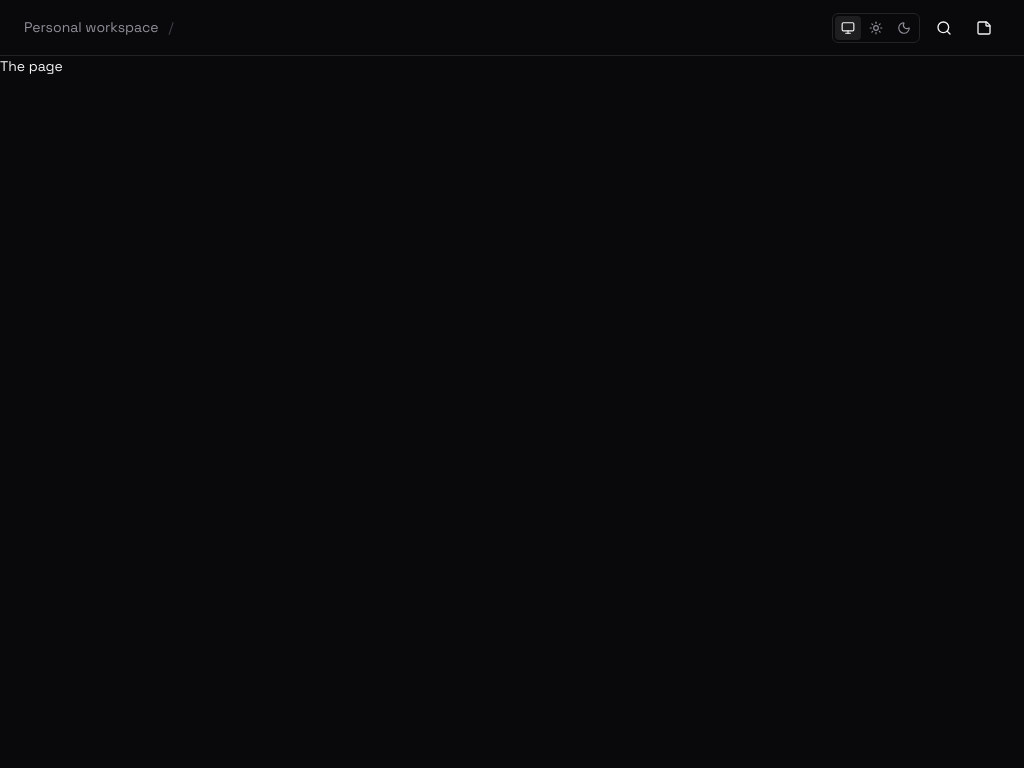
a page outside a project says so
Step 1. Click the button named "Scratch pad" → coordinates (984, 28), box [968,12,1000,44]
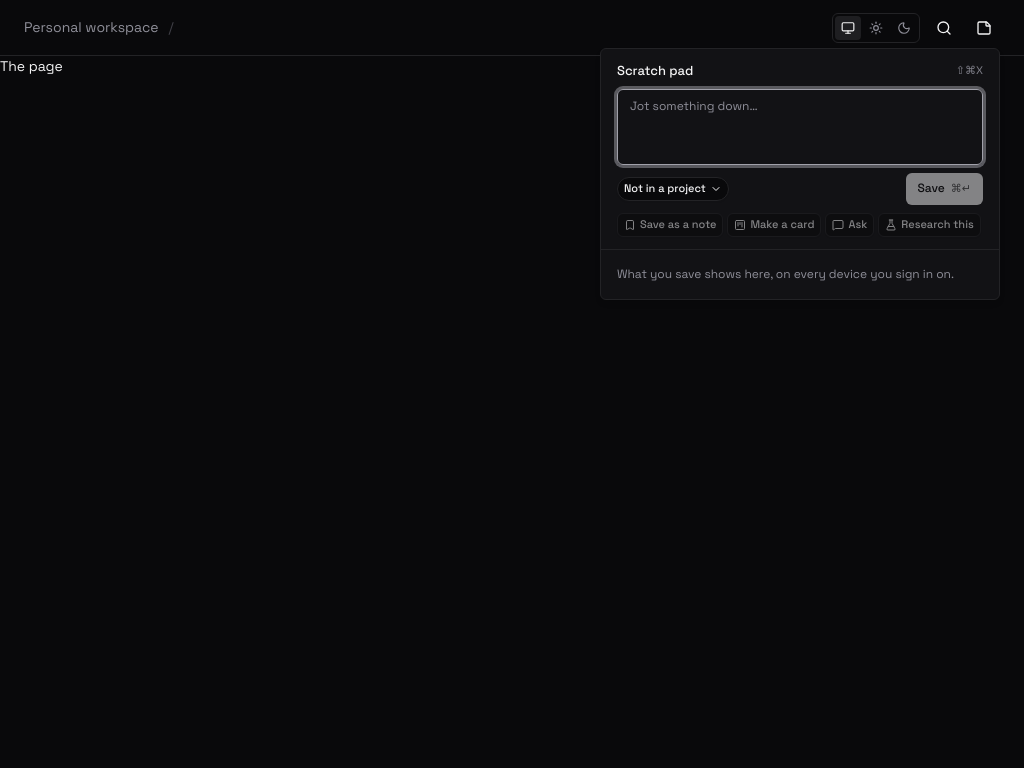
Expected: the button "Not in a project" is shown, [617,176,729,200]
